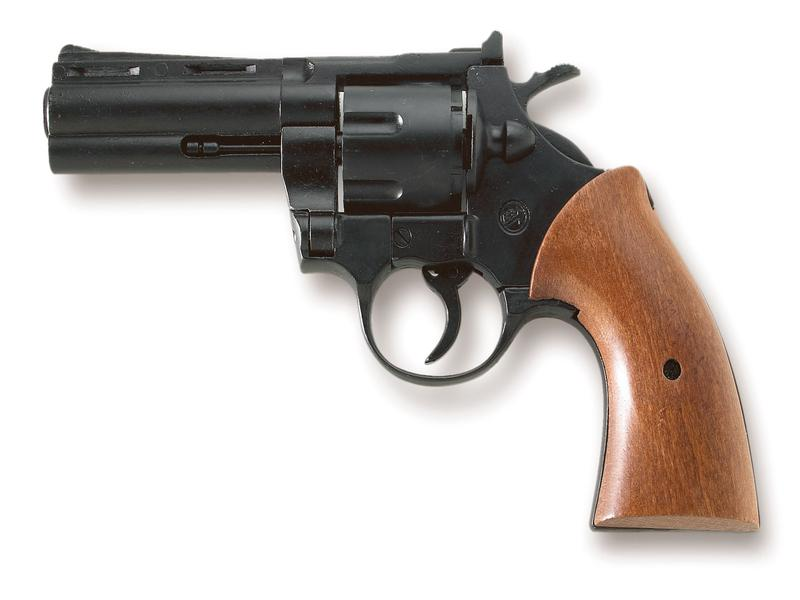Revolver: (29, 18, 777, 476)
